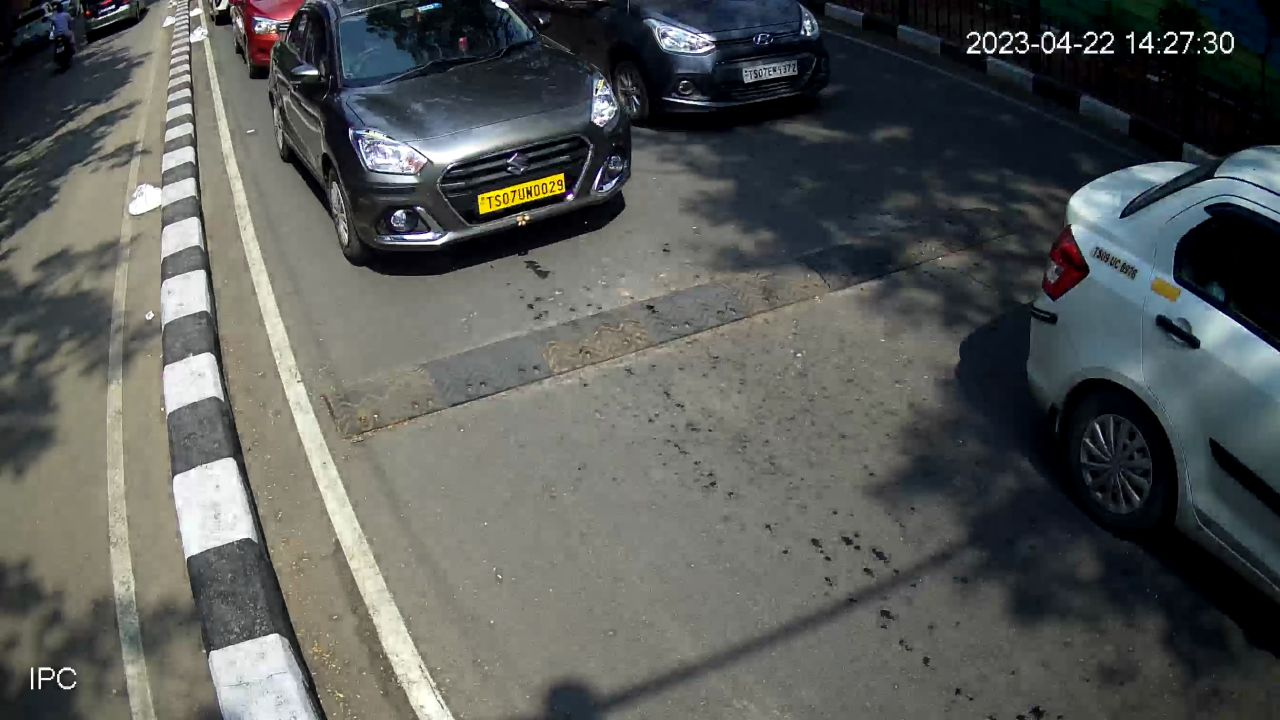license_plate: (473, 167, 566, 224), (1090, 240, 1141, 292), (736, 57, 803, 89)
